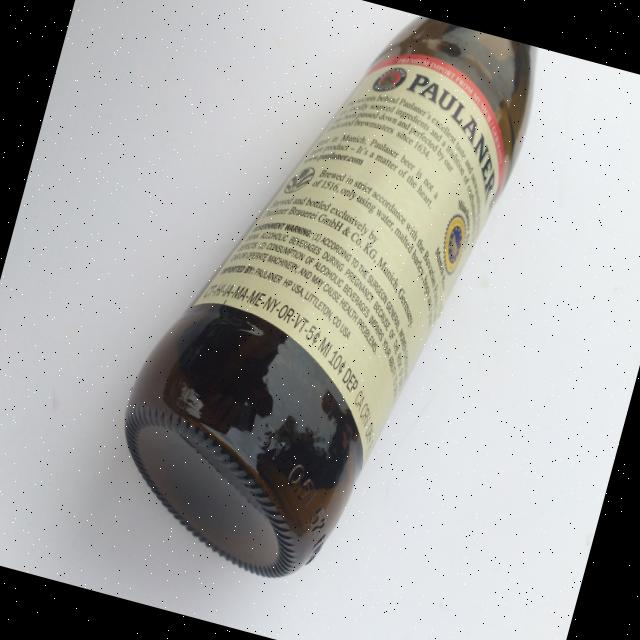glass: (90, 0, 545, 612)
